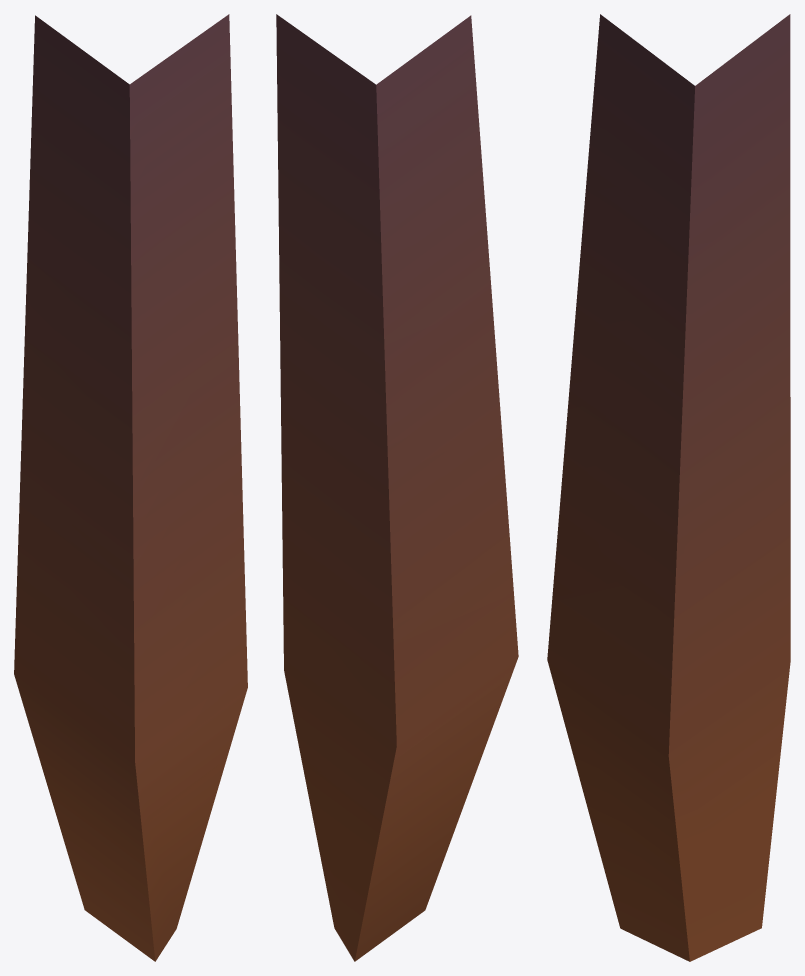
Rendered from Stalactite002.glb.
The picture shows the model from 3 angles, left to right: view 1: azimuth 30°, elevation 25°; view 2: azimuth 150°, elevation 25°; view 3: azimuth 270°, elevation 25°; orthographic projection.
Parts seen in each view (by area): view 1: Stalactite002; view 2: Stalactite002; view 3: Stalactite002.
Part boxes in pixels (<box>): Stalactite002: <box>14,14,247,961</box>; Stalactite002: <box>276,14,518,961</box>; Stalactite002: <box>547,14,790,961</box>.
Bounding box in the file's own units: 119 × 592 × 145.
Materials: 1 (1 with a texture image).
